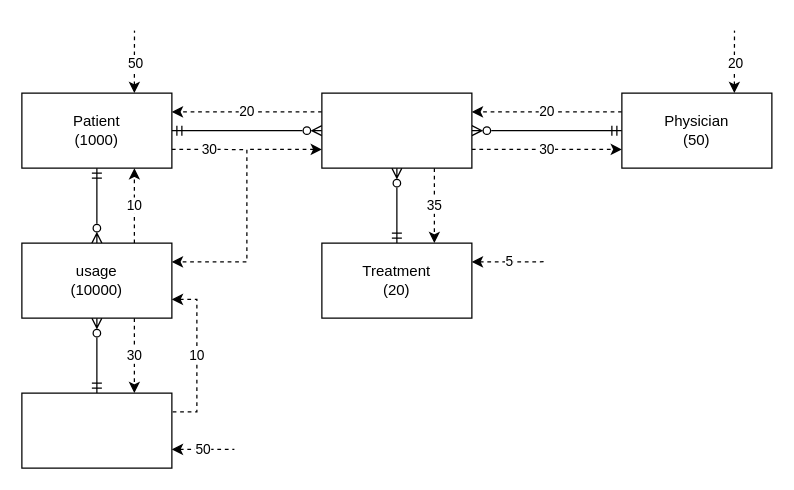
Image size: 794x490. Some labels were removed from this diagram. The centre of each missing label's shape, as x and y in pixels:
Item (500): point (96, 430)
Prescription (4000): point (396, 130)
